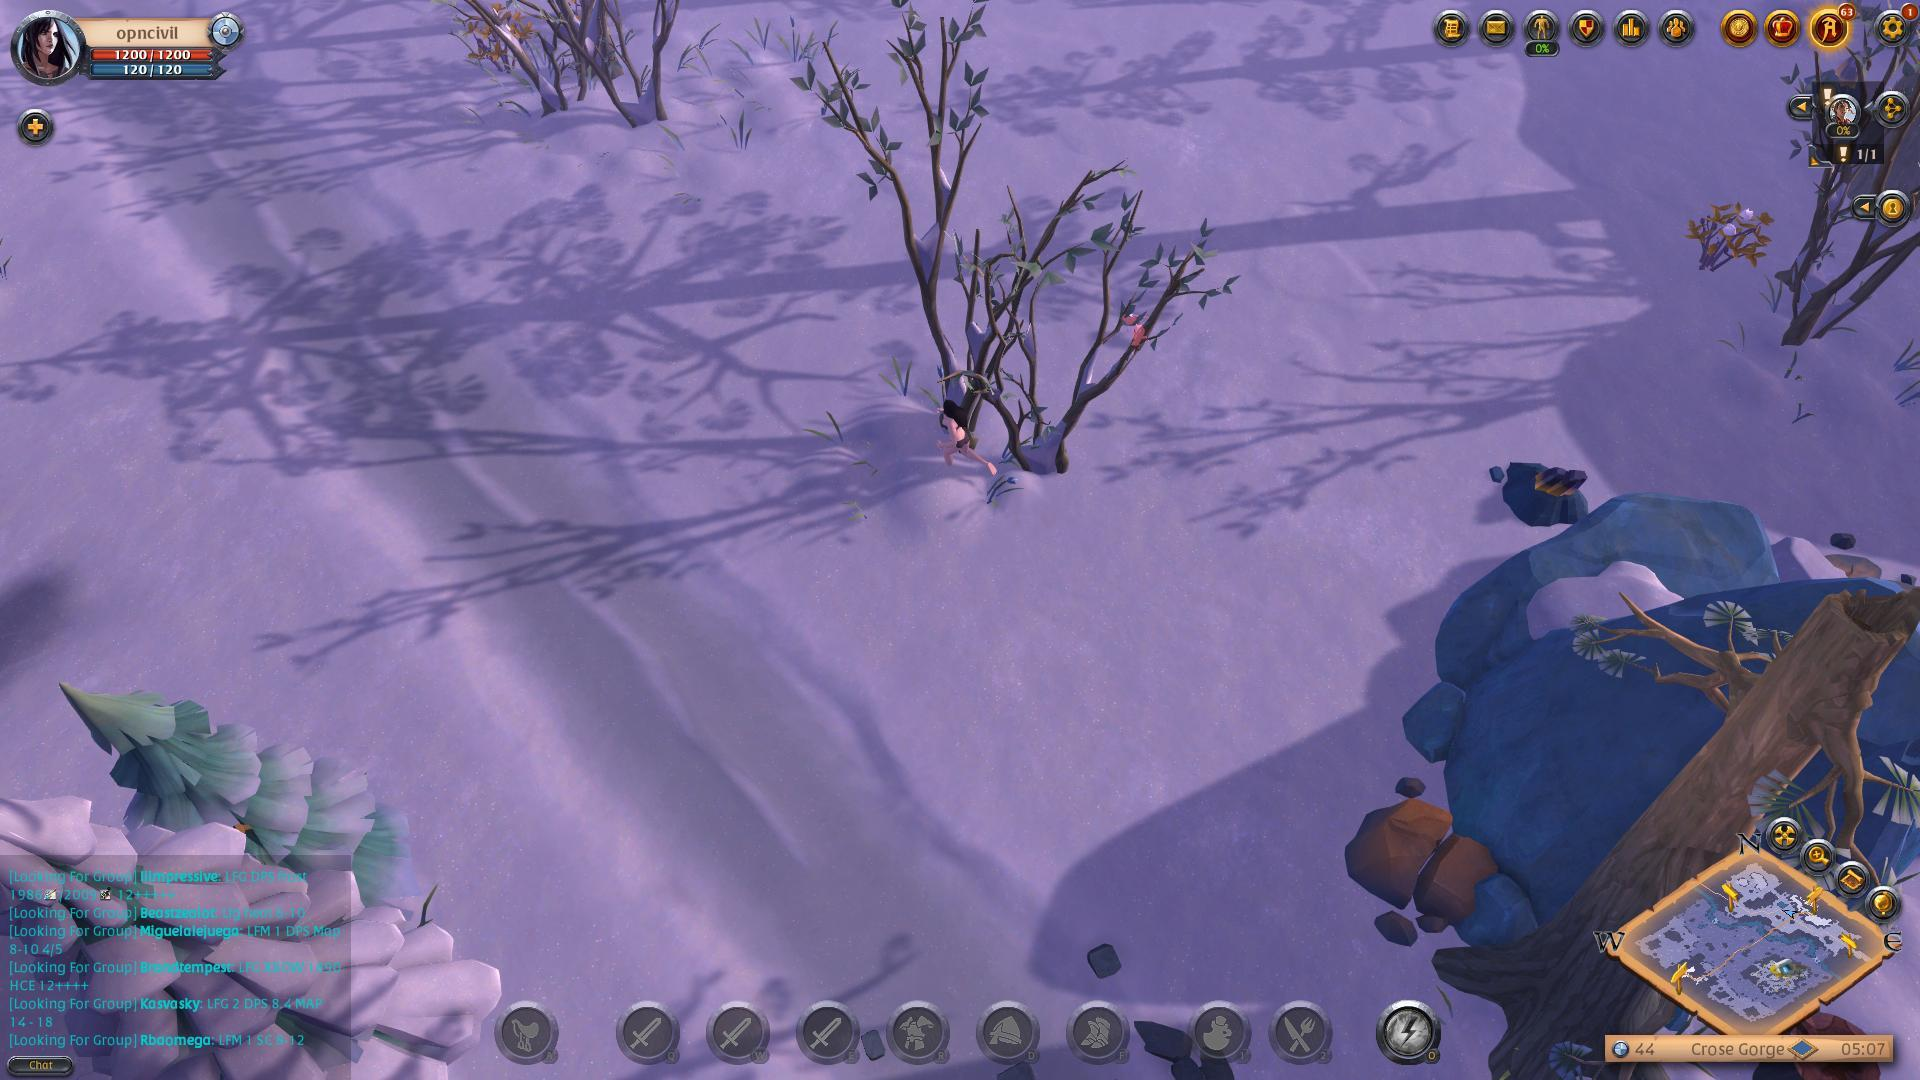copper_ore: (1493, 443, 1594, 542)
cotton: (1677, 191, 1776, 278)
limestone: (1348, 791, 1497, 943)
